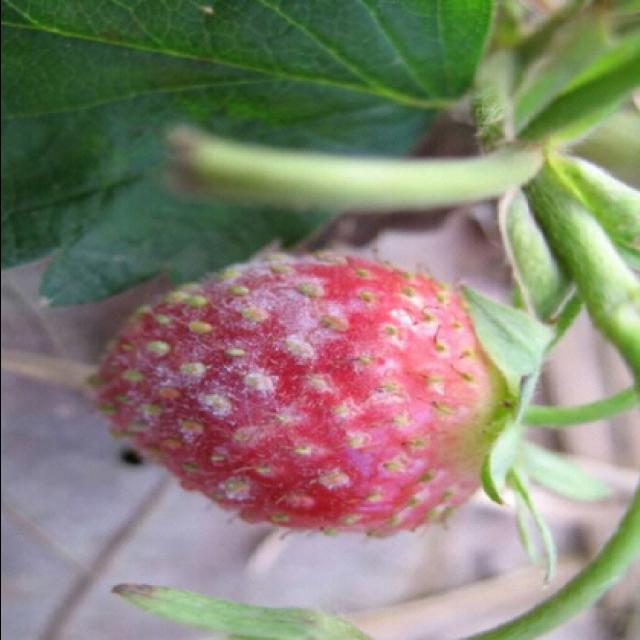Powdery Mildew Fruit: (87, 252, 529, 540)
